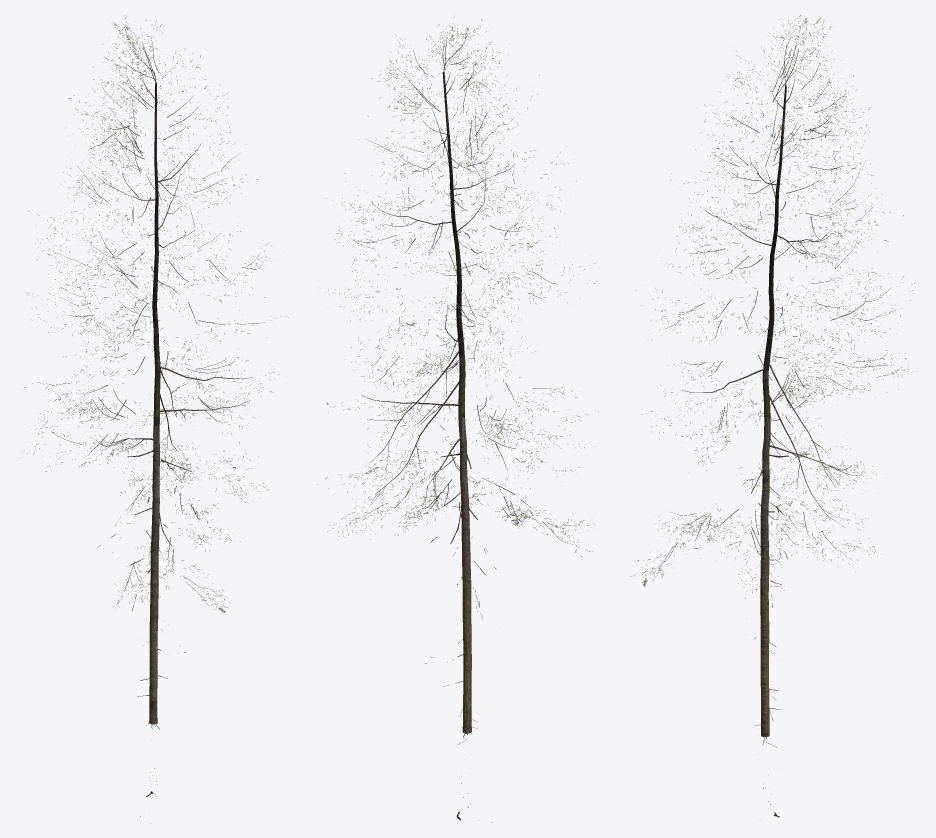
The model's file is fir_tree_01_source_candidate_lod0.glb.
3 renders of one model, left to right at view 1: azimuth 30°, elevation 25°; view 2: azimuth 150°, elevation 25°; view 3: azimuth 270°, elevation 25°, orthographic. The views are drawn at different scales.
Parts seen in each view (by area): view 1: fir_tree_01_source_candidate_lod0; view 2: fir_tree_01_source_candidate_lod0; view 3: fir_tree_01_source_candidate_lod0.
Part boxes in pixels (x1,y1,x2,y2): fir_tree_01_source_candidate_lod0: (21,15,288,823); fir_tree_01_source_candidate_lod0: (317,17,598,822); fir_tree_01_source_candidate_lod0: (630,15,914,817).
Bounding box in the file's own units: 6.31 × 18.88 × 6.2.
Materials: 4 (4 with a texture image).
